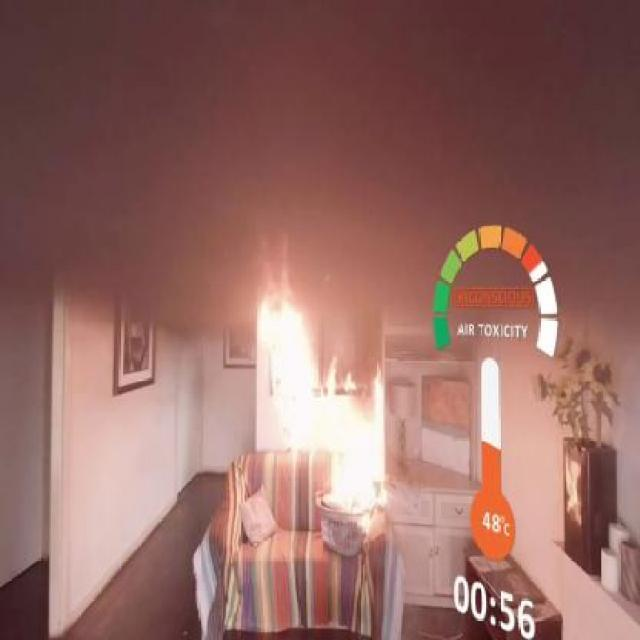fire: (250, 286, 396, 560)
smoke: (107, 27, 546, 286)
